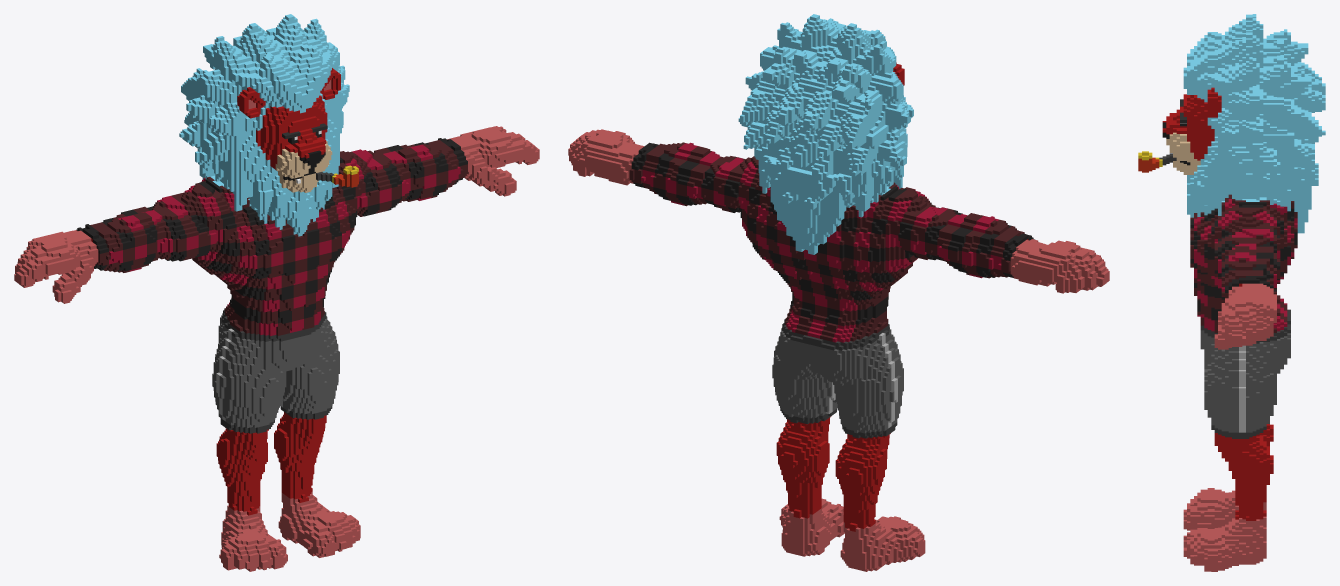
3 views of the same model, side by side, from view 1: azimuth 30°, elevation 25°; view 2: azimuth 150°, elevation 25°; view 3: azimuth 270°, elevation 25° (orthographic). The views are drawn at different scales.
Parts seen in each view (by area): view 1: pipe; view 2: pipe; view 3: pipe.
Part boxes in pixels (left/top/right/bottom): pipe: left=14, top=14, right=539, bottom=571; pipe: left=568, top=14, right=1109, bottom=571; pipe: left=1138, top=14, right=1325, bottom=571.
Bounding box in the file's own units: 17.2 × 16.5 × 5.4.
5 materials, 5 textured.
